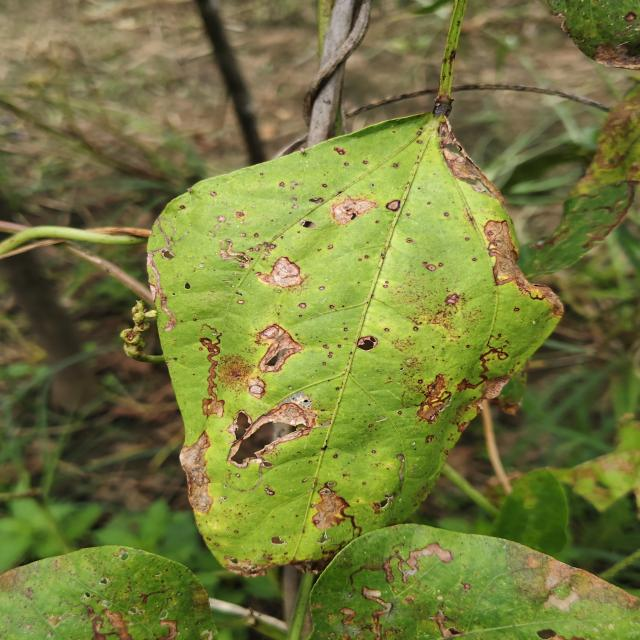leaf-moderate: (535, 85, 640, 280), (541, 0, 640, 70), (599, 260, 640, 345)
sitaw-aphid-low: (147, 100, 564, 576), (309, 523, 640, 640), (0, 544, 219, 640)
